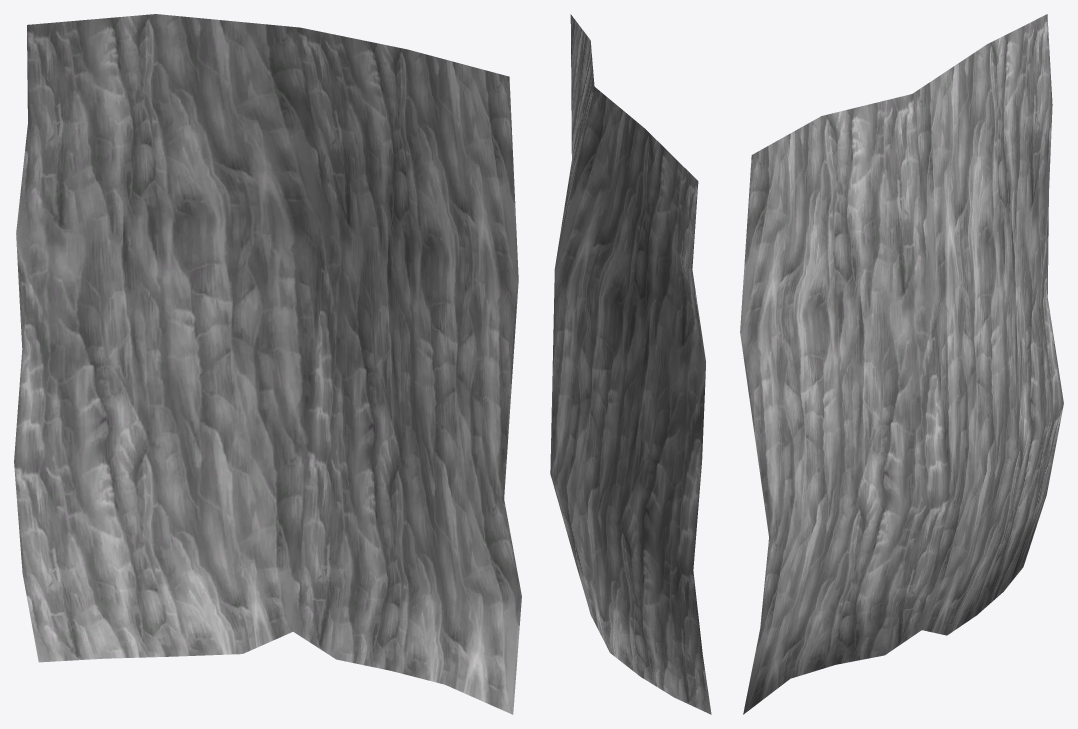
Rendered from SWORDLIGHT20_PS-AREA03_205.fbx.
3 renders of one model, left to right at view 1: azimuth 30°, elevation 25°; view 2: azimuth 150°, elevation 25°; view 3: azimuth 270°, elevation 25°, orthographic. The views are drawn at different scales.
Parts seen in each view (by area): view 1: SWORDLIGHT20_PS-AREA03_205; view 2: SWORDLIGHT20_PS-AREA03_205; view 3: SWORDLIGHT20_PS-AREA03_205.
Boxes of the visible parts, x1=… form: SWORDLIGHT20_PS-AREA03_205: x1=14, y1=14, x2=521, y2=714; SWORDLIGHT20_PS-AREA03_205: x1=550, y1=14, x2=711, y2=714; SWORDLIGHT20_PS-AREA03_205: x1=740, y1=14, x2=1063, y2=714.
Size of the model in its own units: 81174 by 147963 by 75304.
1 material, 1 textured.
